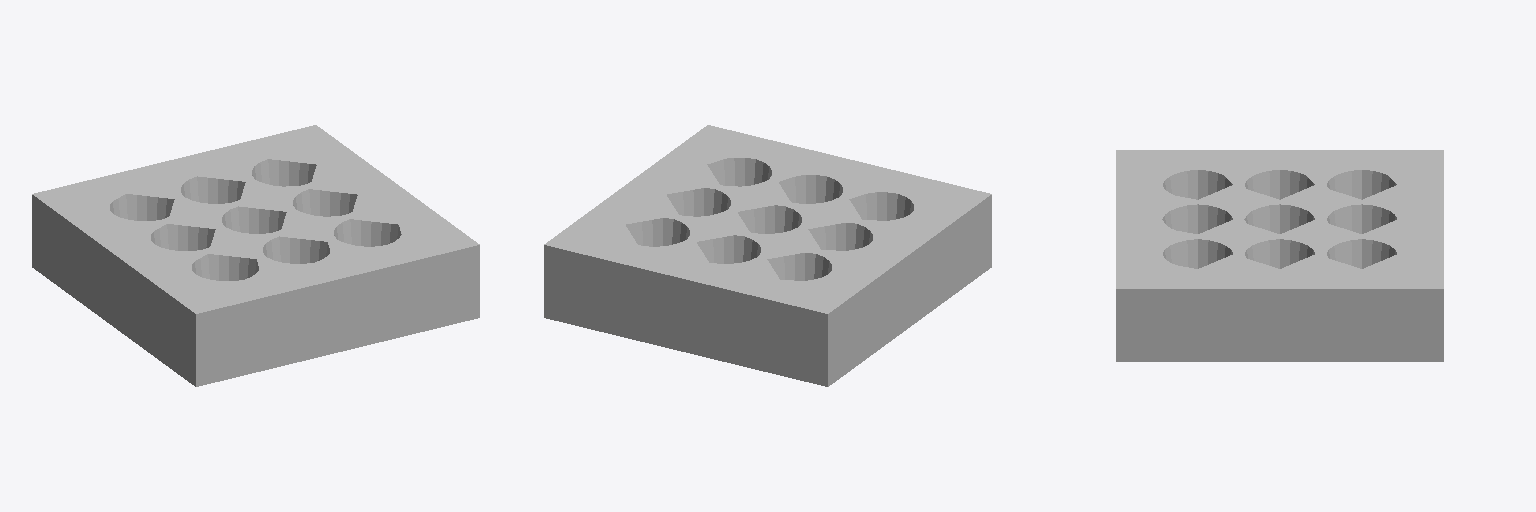
The model's file is SpikeFloorBase.obj.
3 renders of one model, left to right at view 1: azimuth 30°, elevation 25°; view 2: azimuth 150°, elevation 25°; view 3: azimuth 270°, elevation 25°, orthographic.
Parts seen in each view (by area): view 1: Plane; view 2: Plane; view 3: Plane.
Boxes of the visible parts, box(x1,y1,x2,y2) form: Plane: box(32, 125, 479, 386); Plane: box(544, 125, 991, 386); Plane: box(1116, 150, 1443, 361).
Bounding box in the file's own units: 2 × 0.4915 × 2.